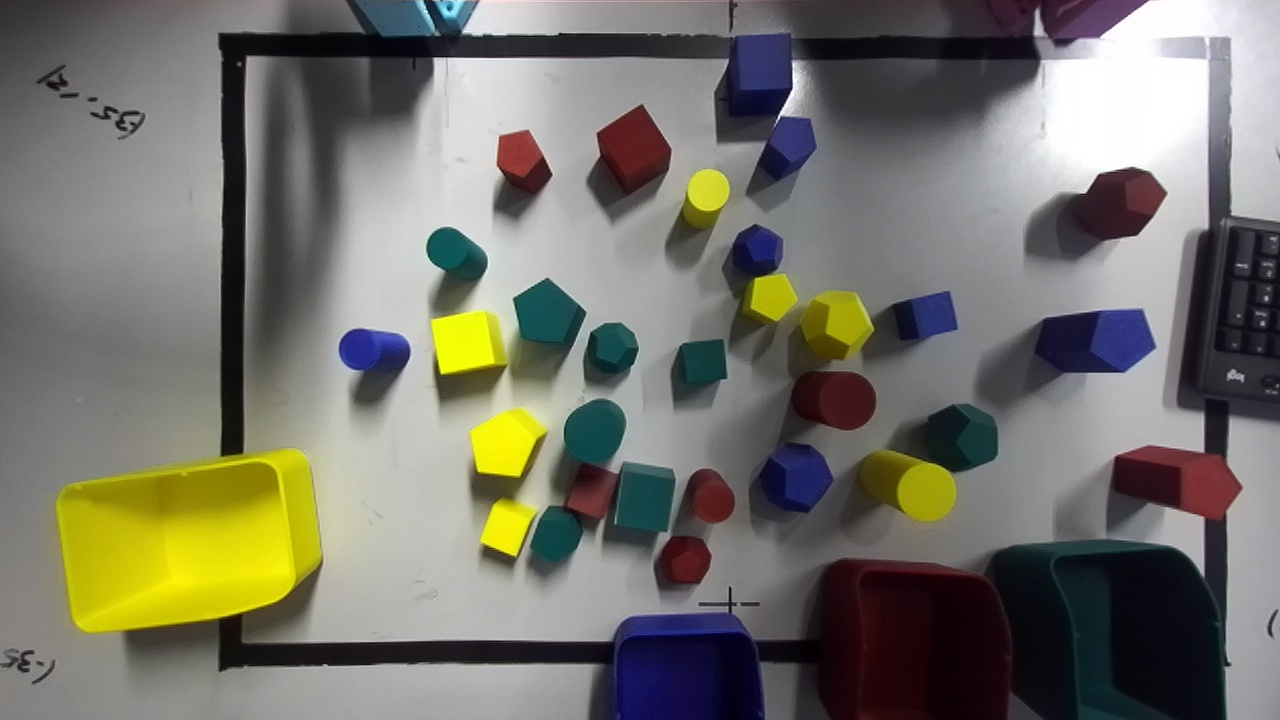bin: (56, 449, 321, 632), (992, 540, 1224, 719), (818, 558, 1010, 719), (612, 612, 764, 719)
cube: (597, 104, 670, 194), (726, 33, 792, 115), (430, 310, 506, 374), (613, 461, 675, 531), (480, 498, 536, 556), (893, 291, 957, 339), (564, 463, 617, 519), (677, 339, 726, 384)
cylinder: (858, 450, 956, 520), (791, 371, 875, 429), (564, 399, 626, 463), (426, 227, 487, 280), (338, 329, 410, 370), (681, 169, 729, 228), (687, 469, 734, 523)
dodecahedron: (1071, 167, 1166, 239), (758, 443, 832, 512), (801, 290, 873, 359), (926, 404, 997, 470), (731, 224, 783, 275), (656, 536, 711, 583), (587, 323, 638, 372)
hexagonal: (1112, 445, 1241, 519), (1034, 309, 1155, 372), (469, 408, 546, 476), (514, 277, 586, 343), (759, 116, 816, 179), (496, 129, 551, 193), (531, 506, 582, 562), (741, 274, 797, 323)
